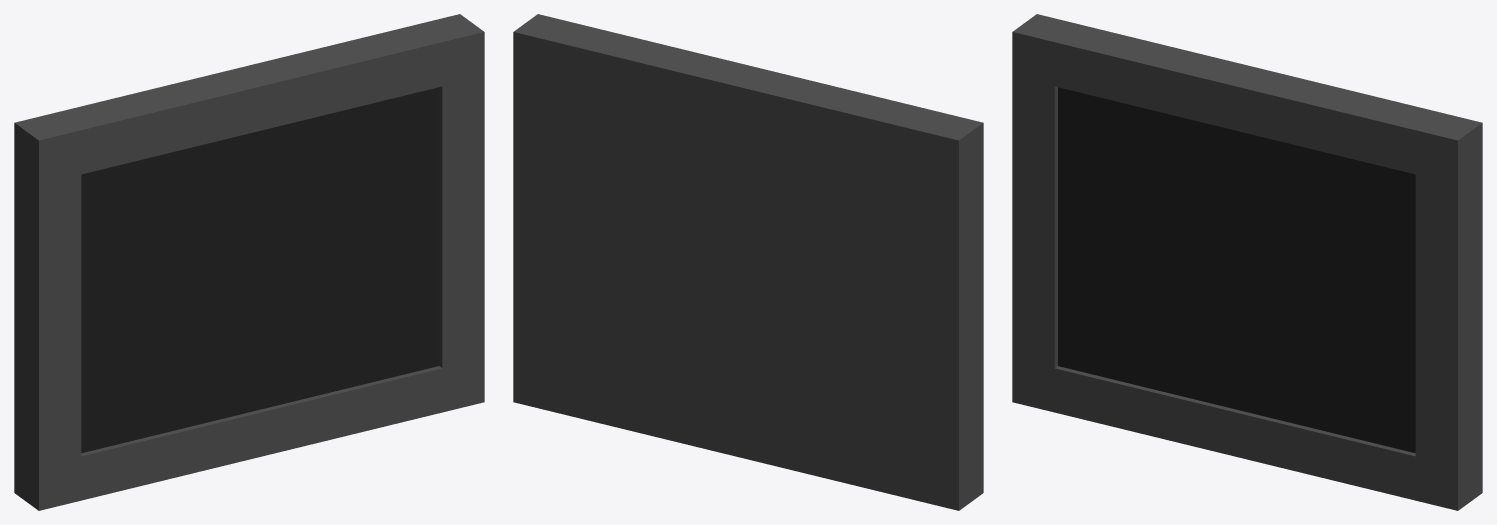
File: Itr_Obj_Laptop_Screen_off_05.FBX
3 views of the same model, side by side, from view 1: azimuth 30°, elevation 25°; view 2: azimuth 150°, elevation 25°; view 3: azimuth 330°, elevation 25° (orthographic).
Parts seen in each view (by area): view 1: Itr_Obj_Laptop_Screen_off_05; view 2: Itr_Obj_Laptop_Screen_off_05; view 3: Itr_Obj_Laptop_Screen_off_05.
Part boxes in pixels (box(x1,y1,x2,y2)): Itr_Obj_Laptop_Screen_off_05: box(14, 14, 484, 510); Itr_Obj_Laptop_Screen_off_05: box(513, 14, 983, 510); Itr_Obj_Laptop_Screen_off_05: box(1012, 14, 1482, 510).
Bounding box in the file's own units: 29.1 × 23.12 × 2.77.
